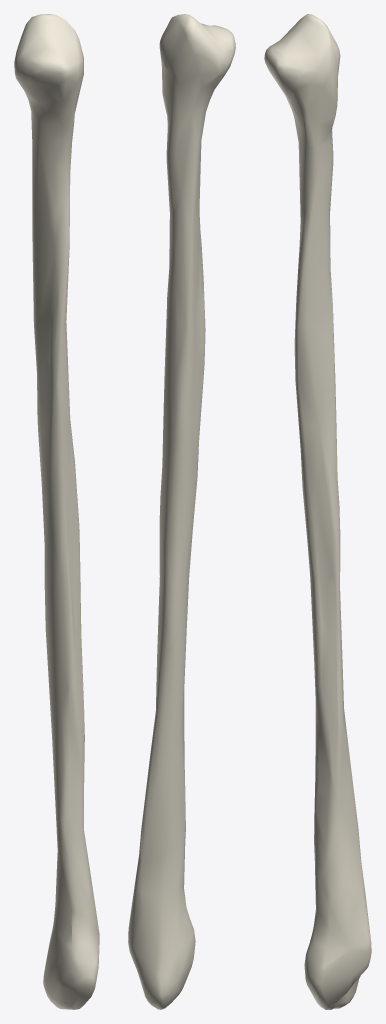
Rendered from fma24480_fj6460.glb.
3 views of the same model, side by side, from view 1: azimuth 30°, elevation 25°; view 2: azimuth 150°, elevation 25°; view 3: azimuth 330°, elevation 25° (orthographic).
Parts seen in each view (by area): view 1: FMA24480_FJ6460; view 2: FMA24480_FJ6460; view 3: FMA24480_FJ6460.
Boxes of the visible parts, left/top/right/bottom form: FMA24480_FJ6460: left=14, top=14, right=99, bottom=1009; FMA24480_FJ6460: left=128, top=14, right=235, bottom=1009; FMA24480_FJ6460: left=264, top=14, right=371, bottom=1009.
Size of the model in its own units: 0.0358 by 0.3844 by 0.0296.
